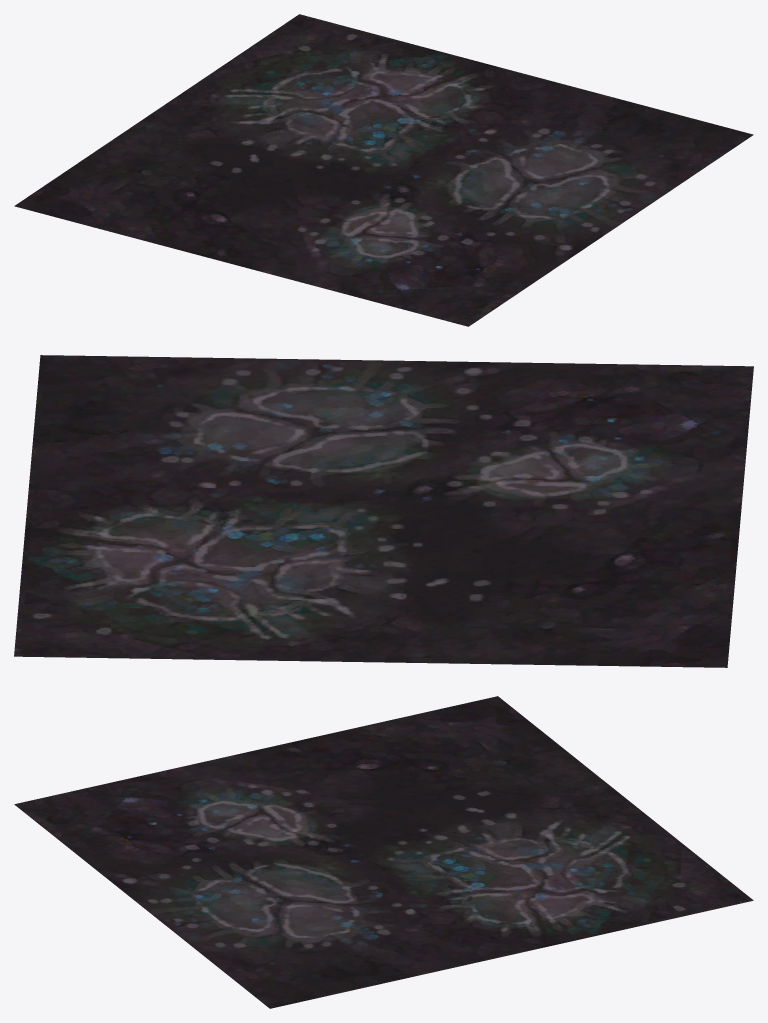
The model's file is cave_floor_mushrooms_12.fbx.
The picture shows the model from 3 angles, top to bottom: view 1: azimuth 30°, elevation 25°; view 2: azimuth 150°, elevation 25°; view 3: azimuth 270°, elevation 25°; orthographic projection. The views are drawn at different scales.
Parts seen in each view (by area): view 1: cave_tileset/Floormushrooms_02_mat; view 2: cave_tileset/Floormushrooms_02_mat; view 3: cave_tileset/Floormushrooms_02_mat.
Boxes of the visible parts, box(x1,y1,x2,y2) form: cave_tileset/Floormushrooms_02_mat: box(14, 14, 753, 326); cave_tileset/Floormushrooms_02_mat: box(14, 355, 753, 667); cave_tileset/Floormushrooms_02_mat: box(14, 696, 753, 1008).
Size of the model in its own units: 5.56 by 0 by 5.56.
